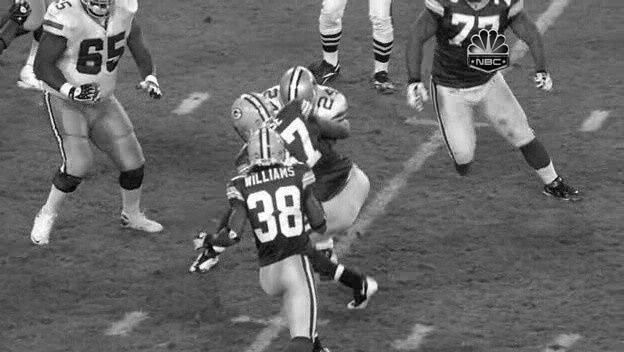person: (280, 69, 313, 111), (279, 69, 312, 111), (281, 69, 314, 111), (280, 68, 313, 110), (280, 70, 313, 112)
target_negative: (286, 209, 578, 326), (69, 253, 378, 326), (445, 24, 506, 293), (66, 262, 199, 343), (492, 330, 562, 350), (324, 93, 536, 94)
